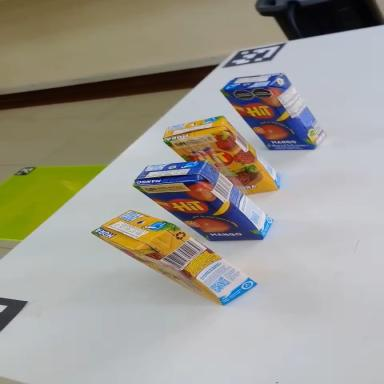HIT-MANGO: (131, 134, 276, 272), (220, 54, 329, 174)
HIT-MORA: (91, 191, 263, 316), (160, 95, 286, 224)
cara_F: (132, 152, 264, 276), (164, 107, 279, 225), (92, 226, 222, 314), (220, 67, 313, 174)
